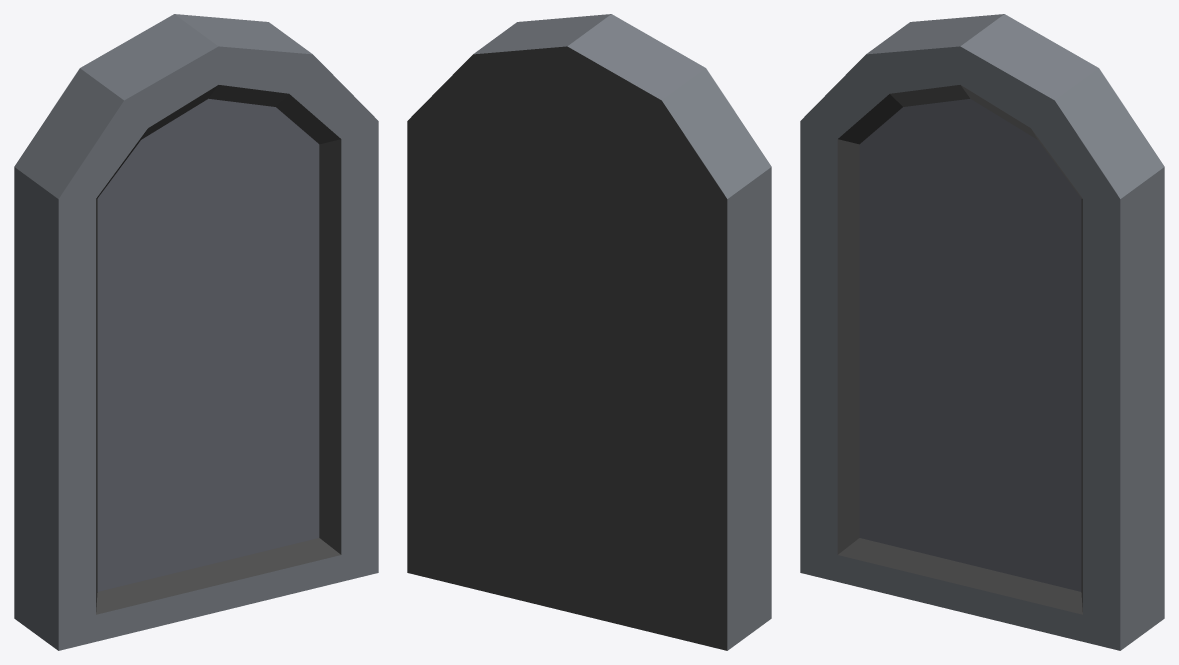
The model's file is Zeolite_00.FBX.
The picture shows the model from 3 angles, left to right: view 1: azimuth 30°, elevation 25°; view 2: azimuth 150°, elevation 25°; view 3: azimuth 330°, elevation 25°; orthographic projection.
Visible parts, largest first — view 1: Zeolite_00; view 2: Zeolite_00; view 3: Zeolite_00.
Part boxes in pixels (x1,y1,x2,y2): Zeolite_00: (14, 14, 378, 650); Zeolite_00: (407, 14, 771, 650); Zeolite_00: (800, 14, 1164, 650).
Bounding box in the file's own units: 95.73 × 162 × 22.94.
